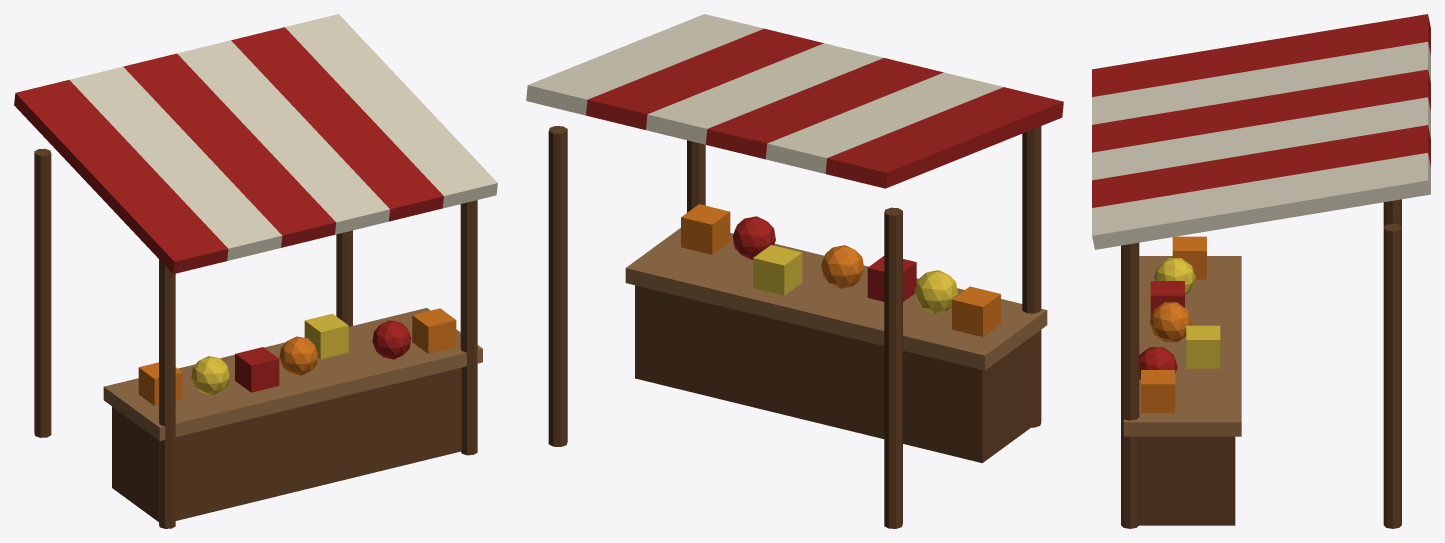
Rendered from SM_GZ_stall_0.fbx.
3 views of the same model, side by side, from view 1: azimuth 30°, elevation 25°; view 2: azimuth 150°, elevation 25°; view 3: azimuth 270°, elevation 25° (orthographic). The views are drawn at different scales.
Parts seen in each view (by area): view 1: SM_GZ_stall_0; view 2: SM_GZ_stall_0; view 3: SM_GZ_stall_0.
Boxes of the visible parts, x1,y1,x2,y2 form: SM_GZ_stall_0: (14,14,497,528); SM_GZ_stall_0: (526,14,1063,528); SM_GZ_stall_0: (1092,14,1430,528).
Size of the model in its own units: 300 by 294 by 258.
